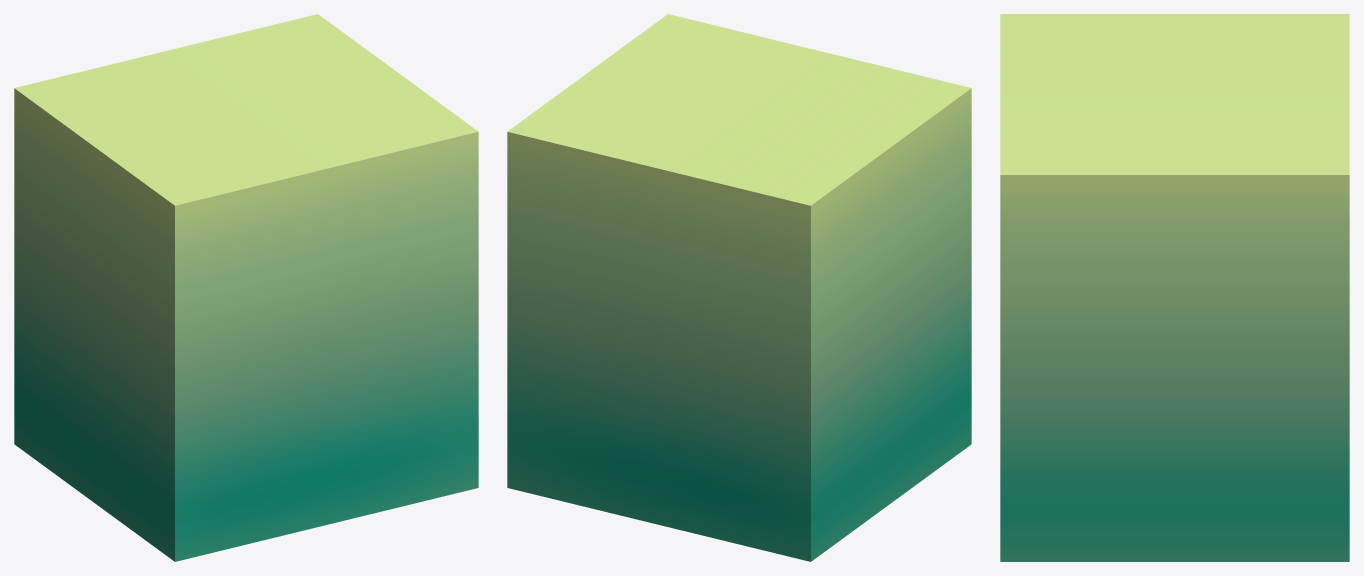
The picture shows the model from 3 angles, left to right: view 1: azimuth 30°, elevation 25°; view 2: azimuth 150°, elevation 25°; view 3: azimuth 270°, elevation 25°; orthographic projection. The views are drawn at different scales.
Visible parts, largest first — view 1: Cube.020_Color_Pallete_0.009; view 2: Cube.020_Color_Pallete_0.009; view 3: Cube.020_Color_Pallete_0.009.
Part boxes in pixels (bbox=[...]): Cube.020_Color_Pallete_0.009: bbox=[14, 14, 478, 561]; Cube.020_Color_Pallete_0.009: bbox=[507, 14, 971, 561]; Cube.020_Color_Pallete_0.009: bbox=[1000, 14, 1349, 561].
Size of the model in its own units: 129 by 145 by 119.
